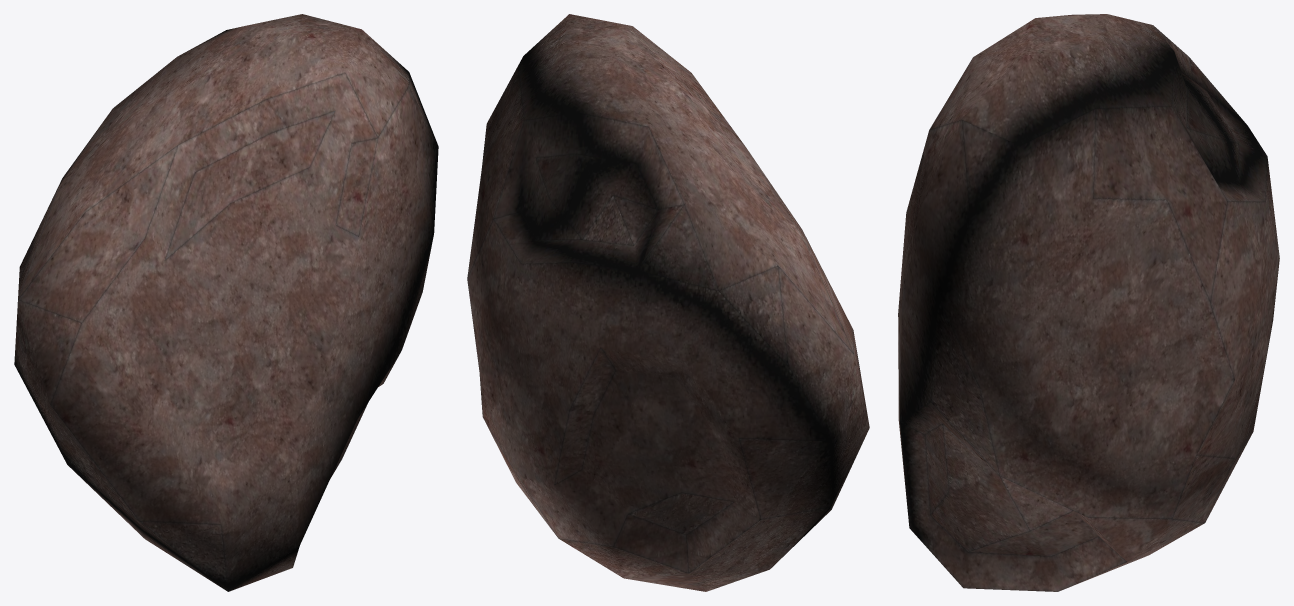
Rendered from asteroid.obj.
3 views of the same model, side by side, from view 1: azimuth 30°, elevation 25°; view 2: azimuth 150°, elevation 25°; view 3: azimuth 270°, elevation 25° (orthographic). The views are drawn at different scales.
Parts seen in each view (by area): view 1: GeoSphere001; view 2: GeoSphere001; view 3: GeoSphere001.
Boxes of the visible parts, x1,y1,x2,y2 form: GeoSphere001: (14,14,438,591); GeoSphere001: (467,14,869,591); GeoSphere001: (898,14,1279,591).
Bounding box in the file's own units: 74.7 × 98.37 × 56.06.
Materials: 1 (1 with a texture image).
